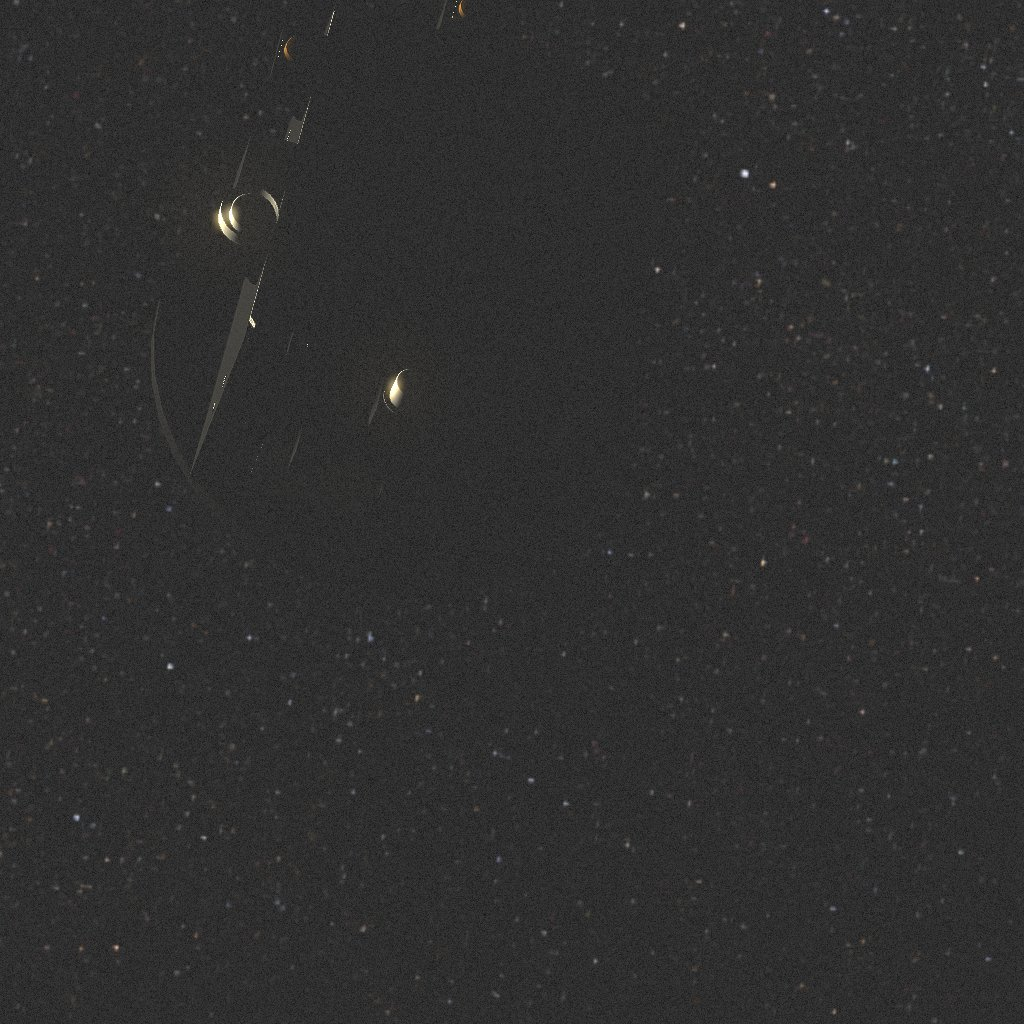proba_3_ocs: (151, 0, 681, 599)
